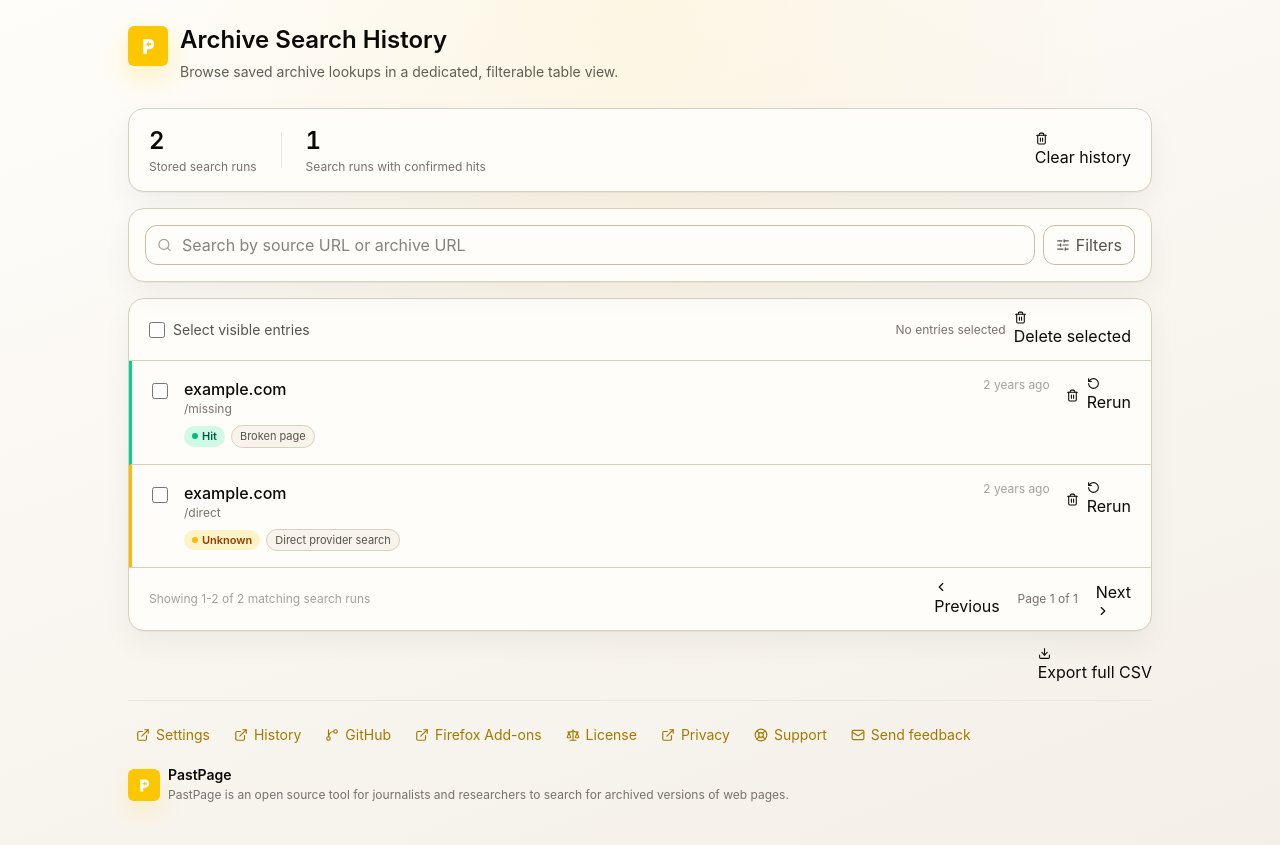
Scenario: HistoryApp › saves and applies filter presets
Click the button "Filters": (1089, 245) [1043,225,1135,265]
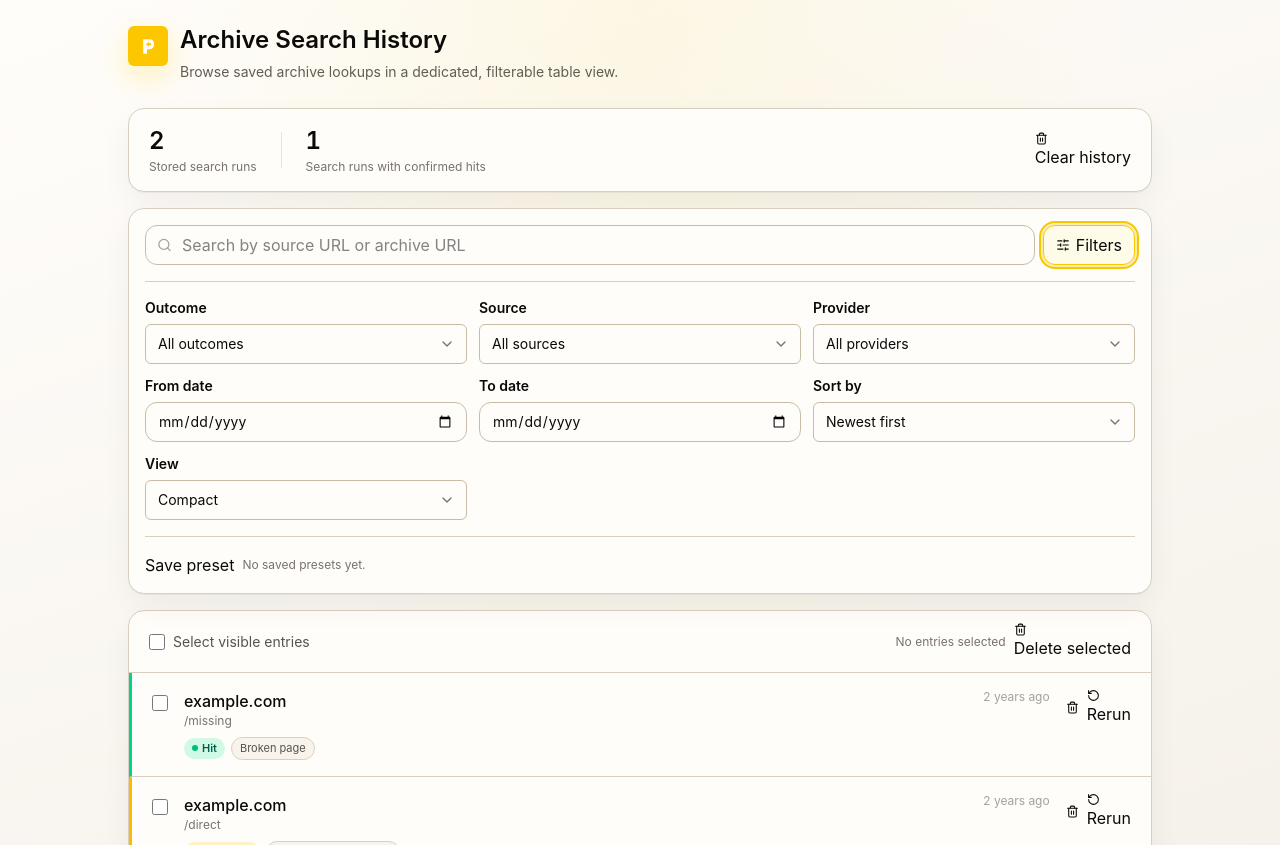
Select "Hit" in the dropdown labelled "Outcome": (306, 344) [145,324,467,364]
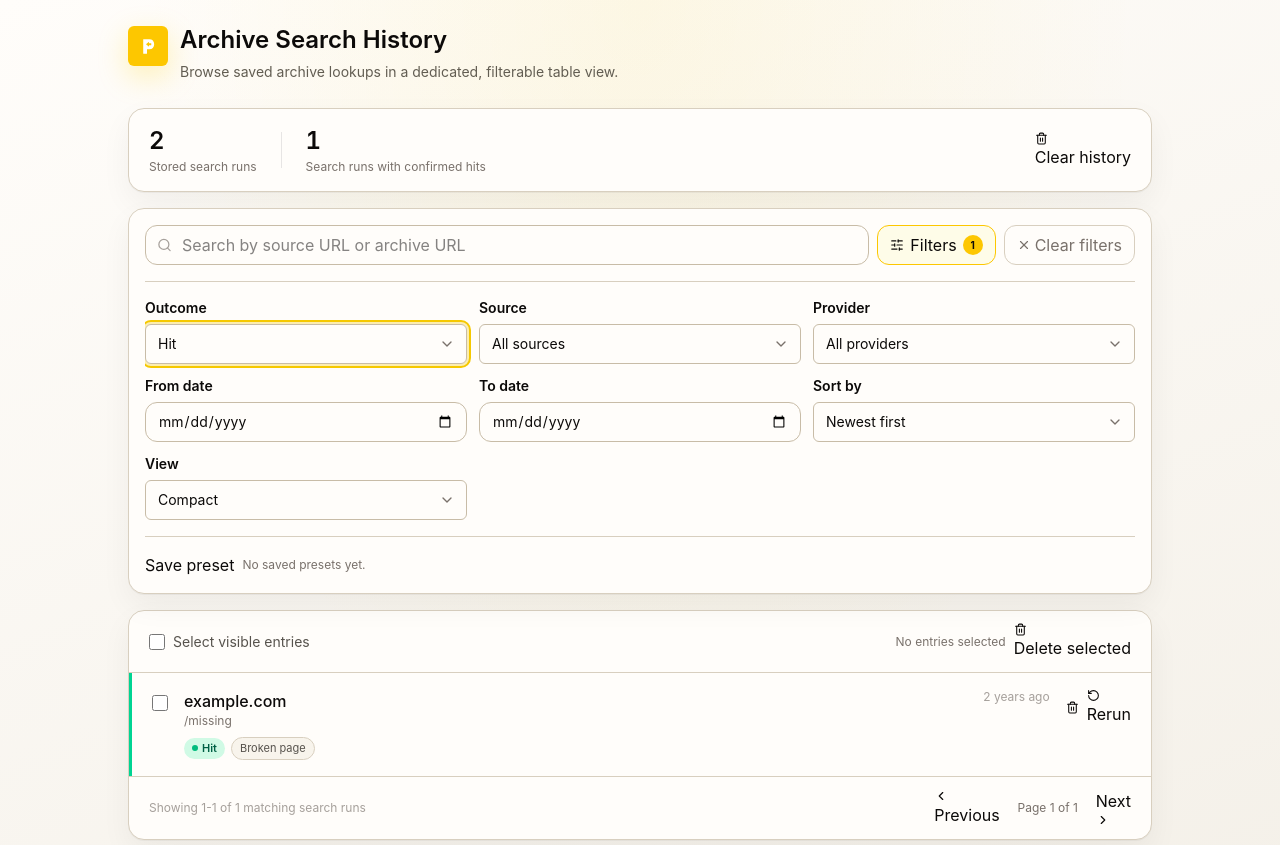
Click the button "Save preset": (190, 565) [145,553,234,577]
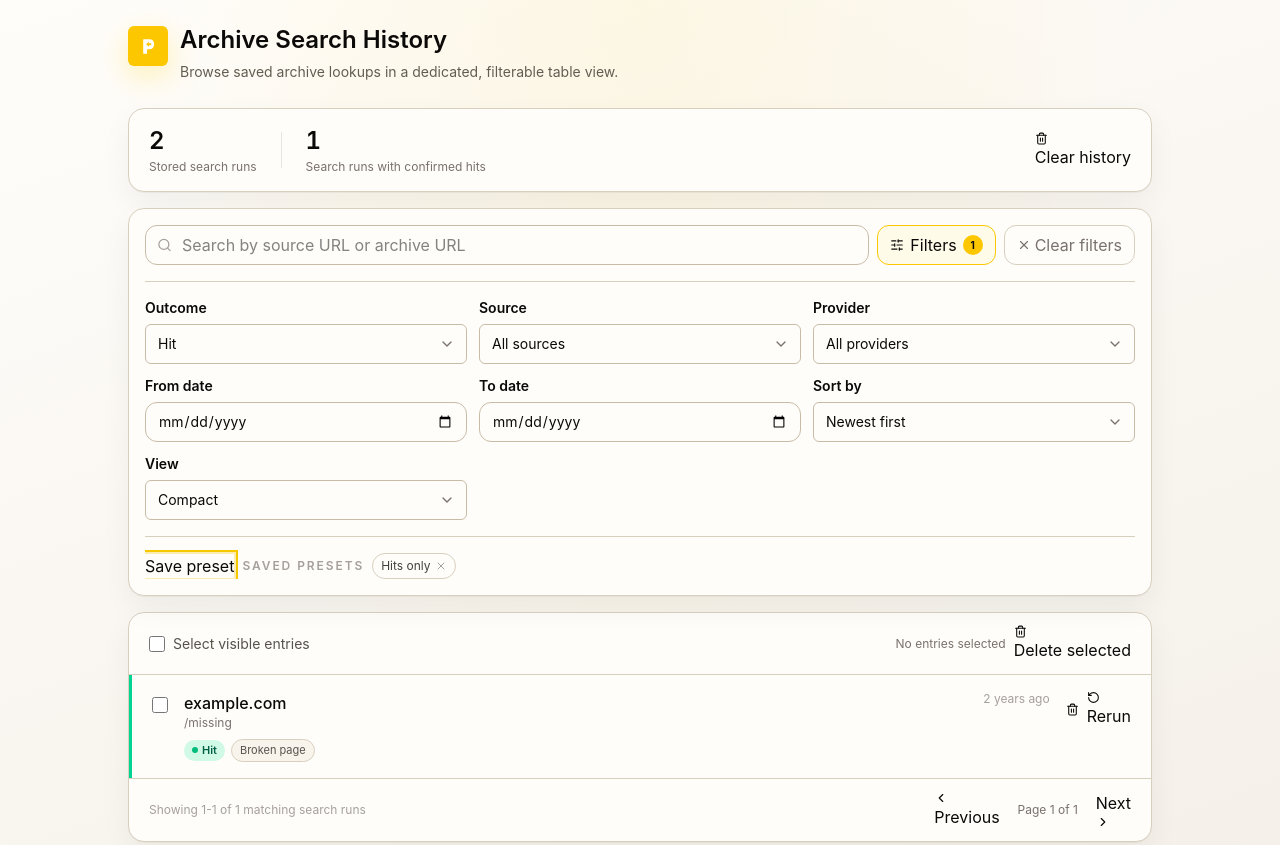
Click the button "Clear filters": (1069, 245) [1004,225,1135,265]
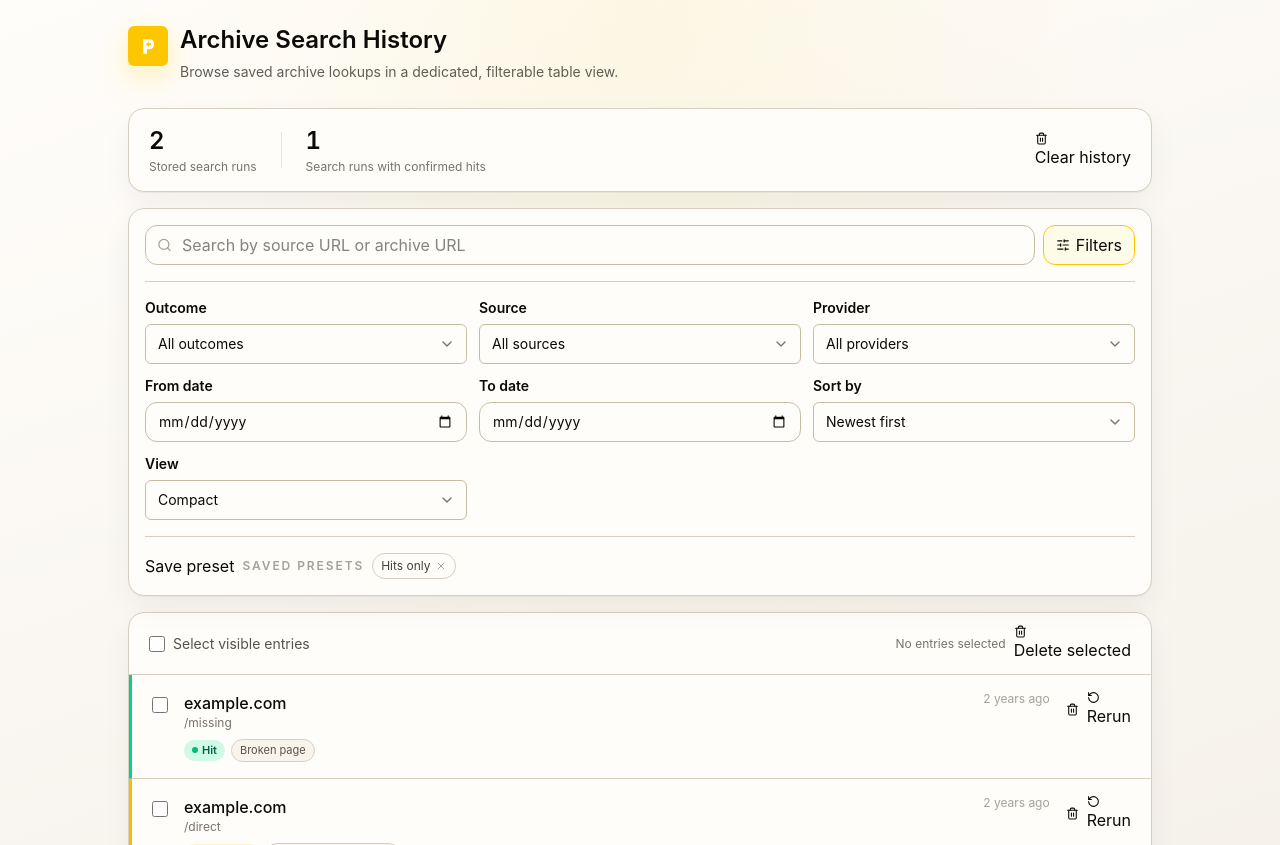
Click the button "Hits only": (406, 566) [381,558,430,574]
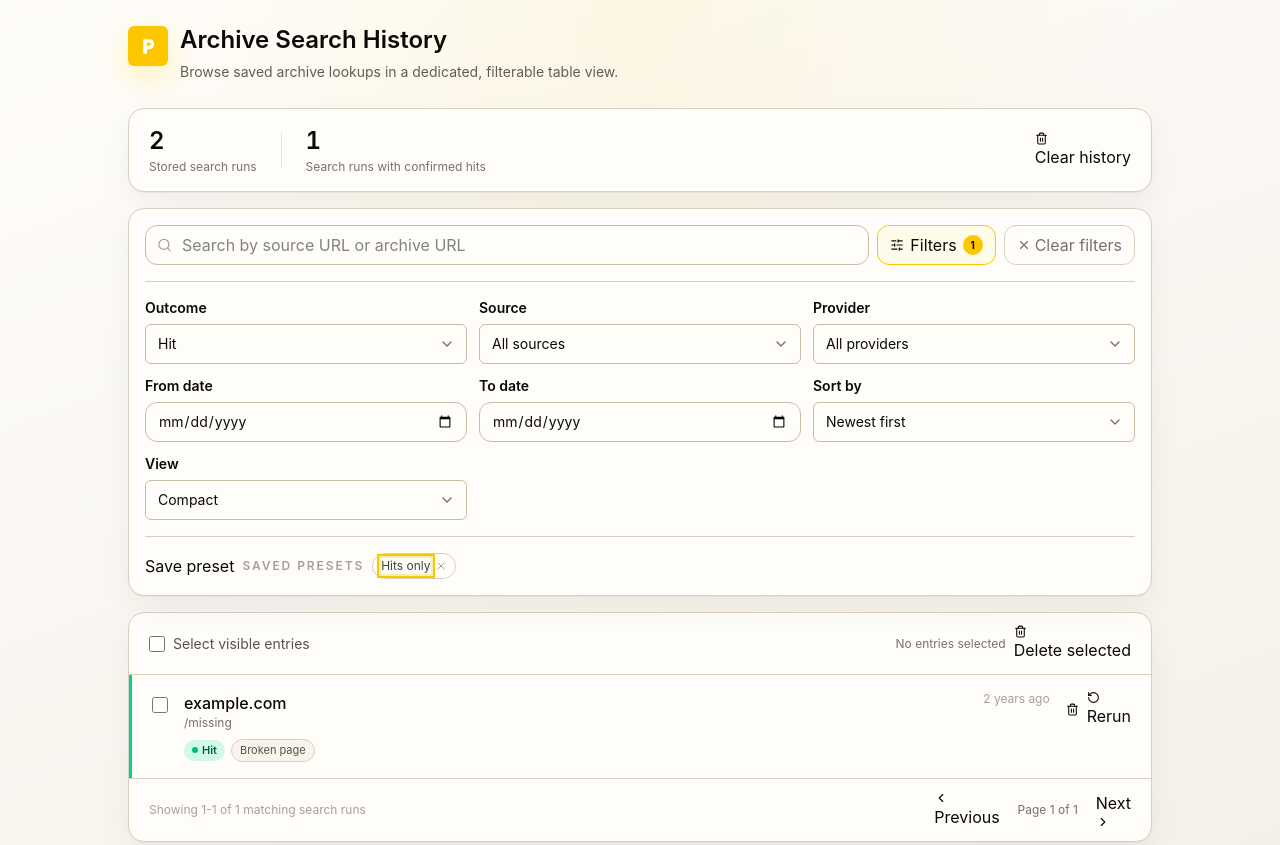
Expected: the text "/missing" is shown, [184,715,232,730]
Now the text "/direct" is gone
